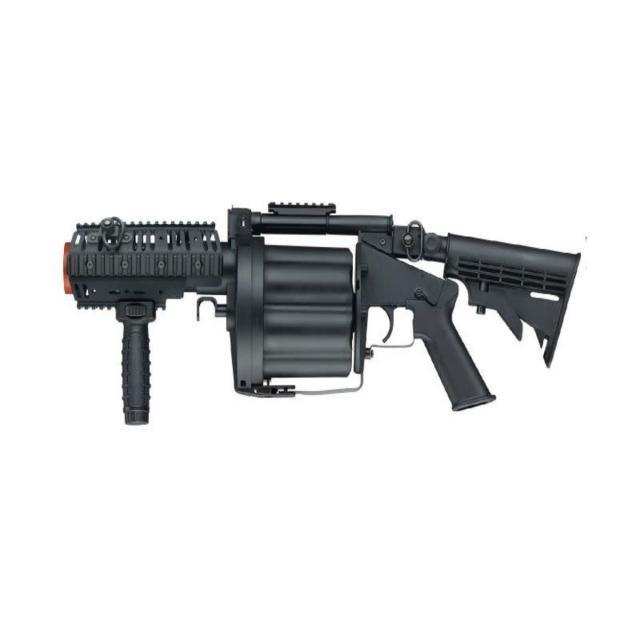rocket launcher: (50, 167, 580, 438)
